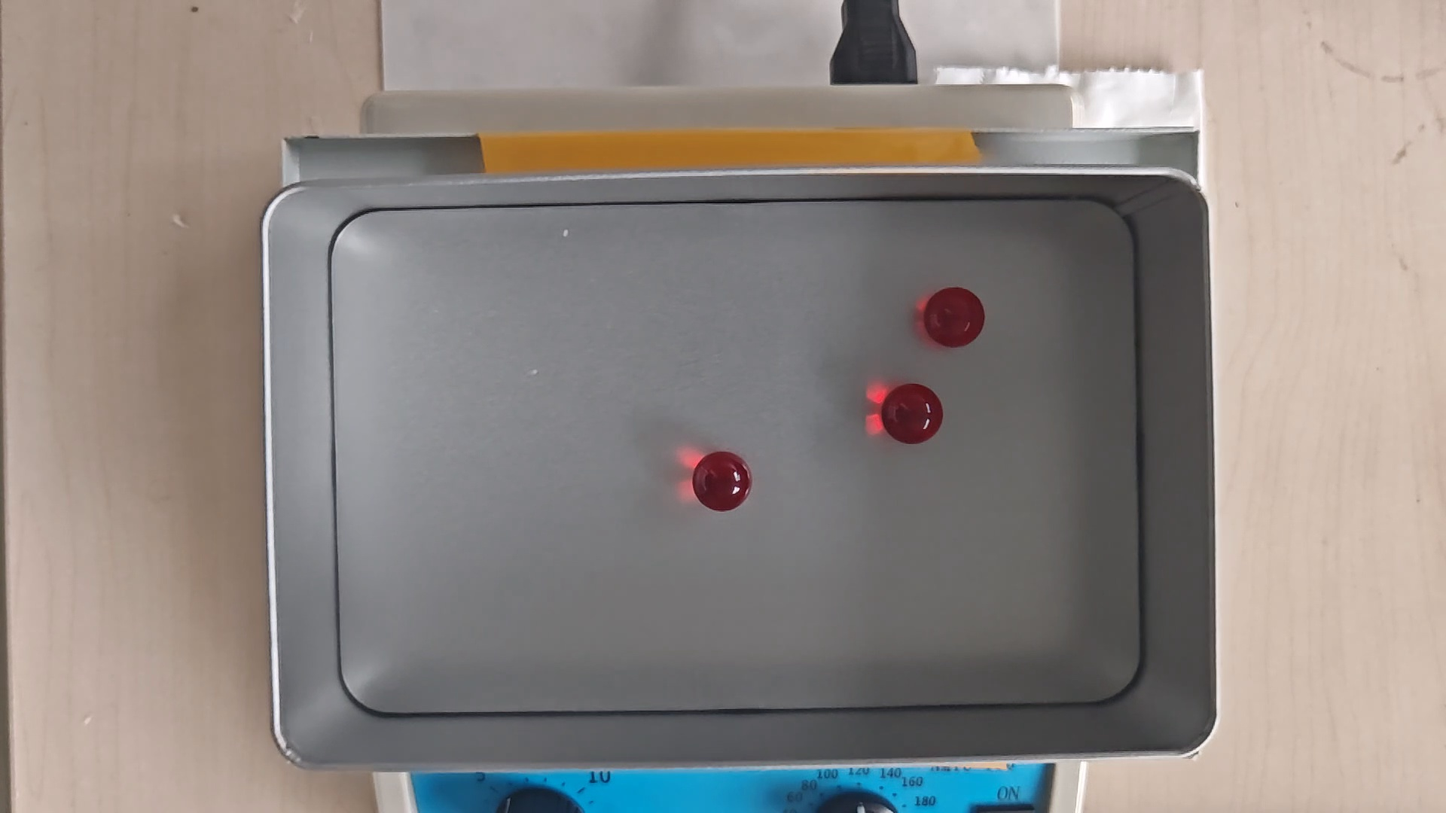ball: (882, 382, 945, 448), (690, 451, 754, 513), (923, 286, 986, 348)
container: (334, 199, 1139, 711)
